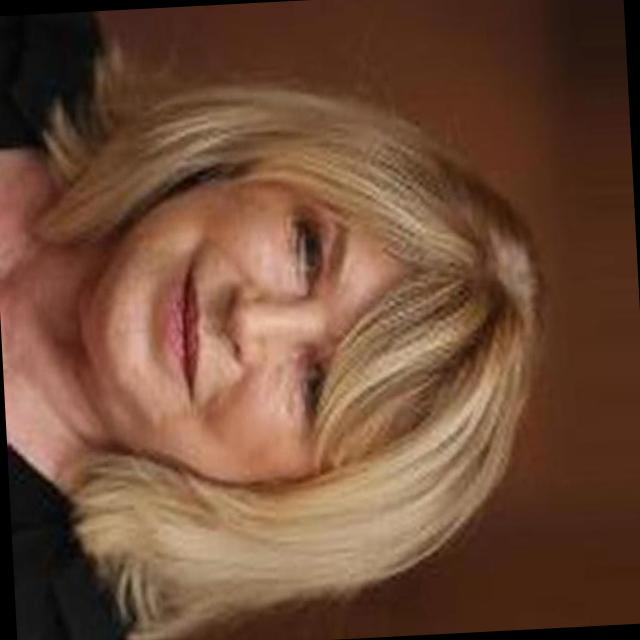bareface: (45, 141, 534, 578)
